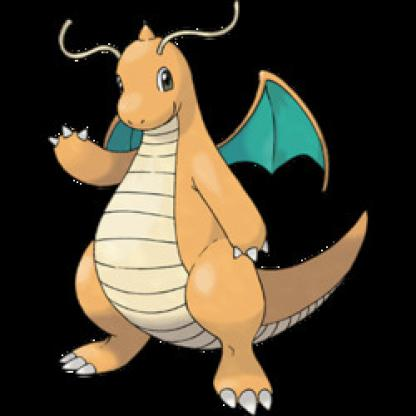Dragonite: (49, 1, 376, 416)
